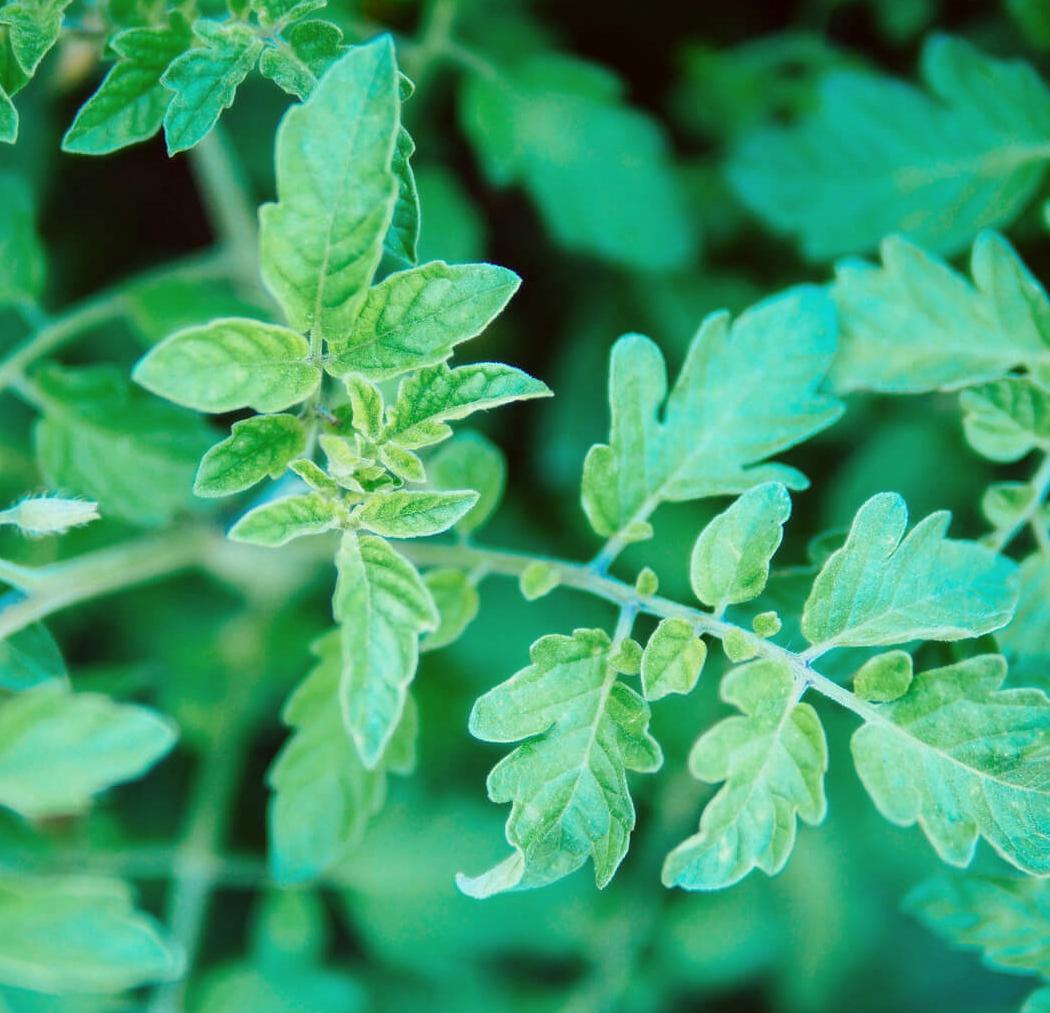Tomato leaf: (575, 276, 837, 566), (456, 608, 662, 923), (845, 649, 1050, 882), (260, 27, 390, 357), (796, 489, 1036, 666), (679, 638, 817, 938), (311, 248, 541, 382), (324, 517, 436, 770), (130, 319, 319, 419)
